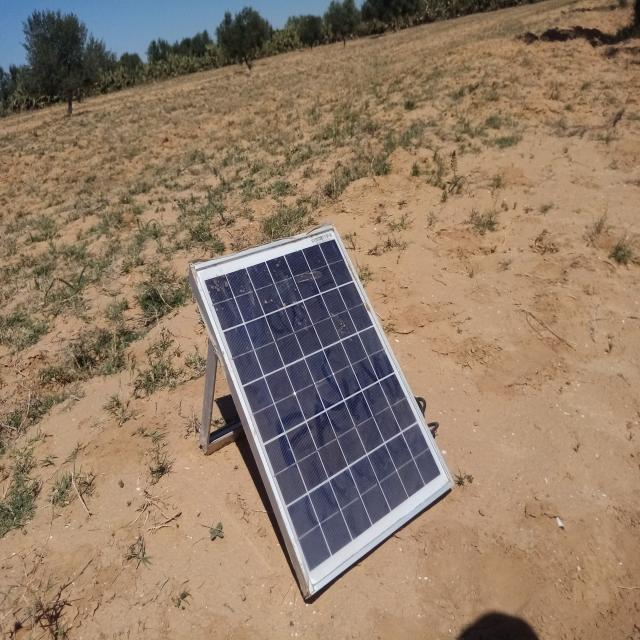faulty: (194, 226, 452, 591)
